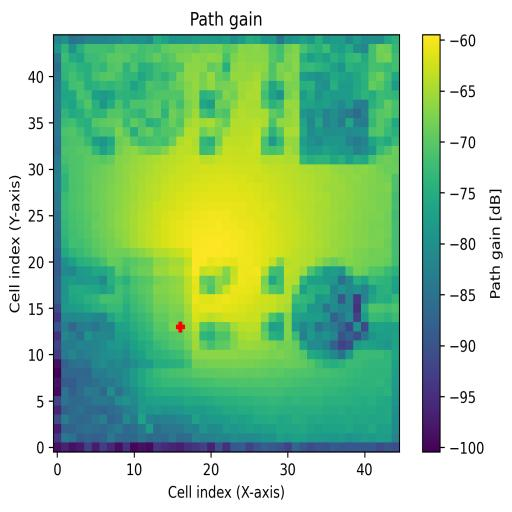Concrete: (300, 54, 368, 166)
Glass: (122, 55, 185, 155)
Metal: (292, 266, 368, 367)
Wood: (122, 258, 192, 368)
